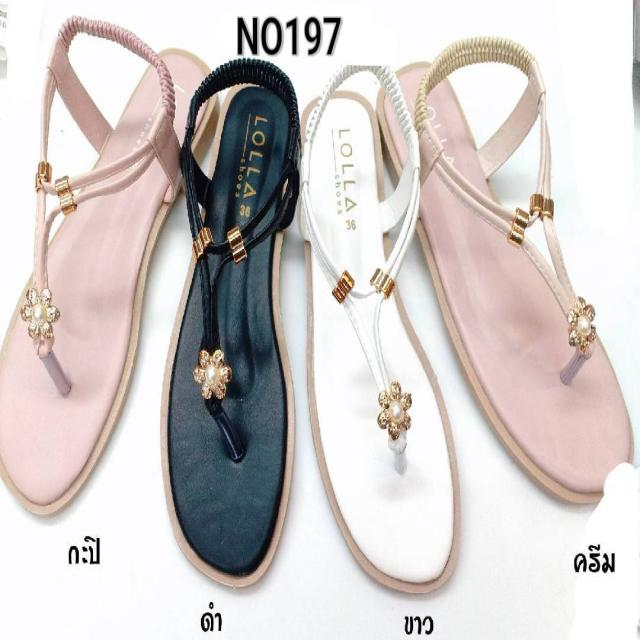black: (155, 38, 299, 618)
cream: (372, 35, 640, 529)
kapi: (0, 3, 208, 537)
white: (303, 54, 473, 610)
